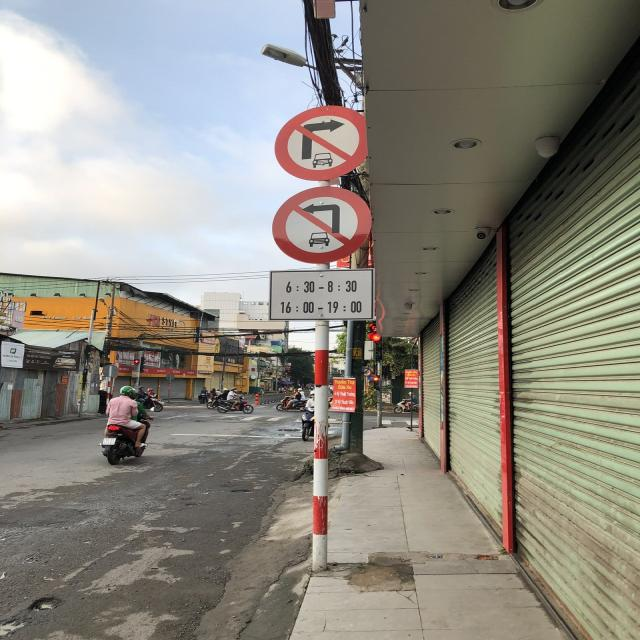Bien bao cam xe o to re phai: (264, 100, 376, 182)
Bien bao cam xe o to re trai: (264, 184, 382, 265)
